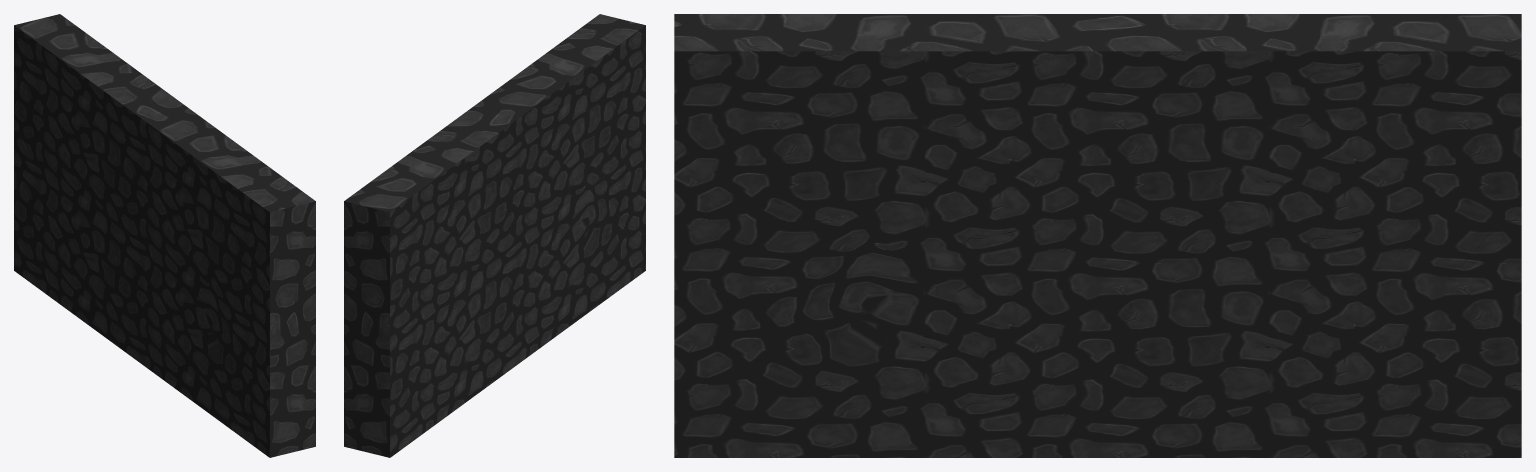
File: Destructable_Wall_13Blocks.fbx
3 renders of one model, left to right at view 1: azimuth 30°, elevation 25°; view 2: azimuth 150°, elevation 25°; view 3: azimuth 270°, elevation 25°, orthographic. The views are drawn at different scales.
Parts seen in each view (by area): view 1: Wall_Destructible.186, Wall_Destructible.125, Wall_Destructible.197, Wall_Destructible.172, Wall_Destructible.104, Wall_Destructible.183, Wall_Destructible.136, Wall_Destructible.112, Wall_Destructible.192, Wall_Destructible.141, Wall_Destructible.129, Wall_Destructible.137 (+1 smaller); view 2: Wall_Destructible.197, Wall_Destructible.129, Wall_Destructible.172, Wall_Destructible.192, Wall_Destructible.128, Wall_Destructible.104, Wall_Destructible.125, Wall_Destructible.183, Wall_Destructible.136, Wall_Destructible.112, Wall_Destructible.141, Wall_Destructible.186 (+1 smaller); view 3: Wall_Destructible.172, Wall_Destructible.197, Wall_Destructible.104, Wall_Destructible.183, Wall_Destructible.136, Wall_Destructible.112, Wall_Destructible.192, Wall_Destructible.141, Wall_Destructible.129, Wall_Destructible.125, Wall_Destructible.186, Wall_Destructible.137 (+1 smaller).
Part boxes in pixels (bbox=[...]): Wall_Destructible.186: bbox=[226, 292, 315, 457]; Wall_Destructible.125: bbox=[208, 156, 315, 303]; Wall_Destructible.197: bbox=[14, 14, 184, 147]; Wall_Destructible.172: bbox=[139, 105, 253, 279]; Wall_Destructible.104: bbox=[113, 117, 195, 273]; Wall_Destructible.183: bbox=[105, 272, 236, 433]; Wall_Destructible.136: bbox=[134, 243, 219, 364]; Wall_Destructible.112: bbox=[31, 93, 125, 208]; Wall_Destructible.192: bbox=[14, 229, 120, 342]; Wall_Destructible.141: bbox=[60, 178, 155, 294]; Wall_Destructible.129: bbox=[14, 115, 84, 263]; Wall_Destructible.137: bbox=[194, 260, 255, 400]; Wall_Destructible.197: bbox=[344, 109, 514, 236]; Wall_Destructible.129: bbox=[344, 288, 460, 416]; Wall_Destructible.172: bbox=[469, 59, 629, 165]; Wall_Destructible.192: bbox=[344, 334, 496, 457]; Wall_Destructible.128: bbox=[344, 201, 422, 335]; Wall_Destructible.104: bbox=[489, 114, 571, 253]; Wall_Destructible.125: bbox=[538, 14, 645, 157]; Wall_Destructible.183: bbox=[481, 274, 612, 385]; Wall_Destructible.136: bbox=[510, 164, 595, 318]; Wall_Destructible.112: bbox=[407, 162, 501, 304]; Wall_Destructible.141: bbox=[436, 240, 531, 343]; Wall_Destructible.186: bbox=[603, 116, 645, 294]; Wall_Destructible.172: bbox=[727, 14, 1106, 223]; Wall_Destructible.197: bbox=[1106, 14, 1521, 141]; Wall_Destructible.104: bbox=[921, 51, 1192, 291]; Wall_Destructible.183: bbox=[783, 328, 1219, 457]; Wall_Destructible.136: bbox=[839, 192, 1123, 401]; Wall_Destructible.112: bbox=[1151, 102, 1464, 268]; Wall_Destructible.192: bbox=[1167, 344, 1521, 457]; Wall_Destructible.141: bbox=[1052, 207, 1369, 363]; Wall_Destructible.129: bbox=[1285, 199, 1521, 406]; Wall_Destructible.125: bbox=[674, 14, 879, 234]; Wall_Destructible.186: bbox=[674, 202, 816, 457]; Wall_Destructible.137: bbox=[721, 183, 925, 413].
Bounding box in the file's own units: 62.74 × 318 × 600.
